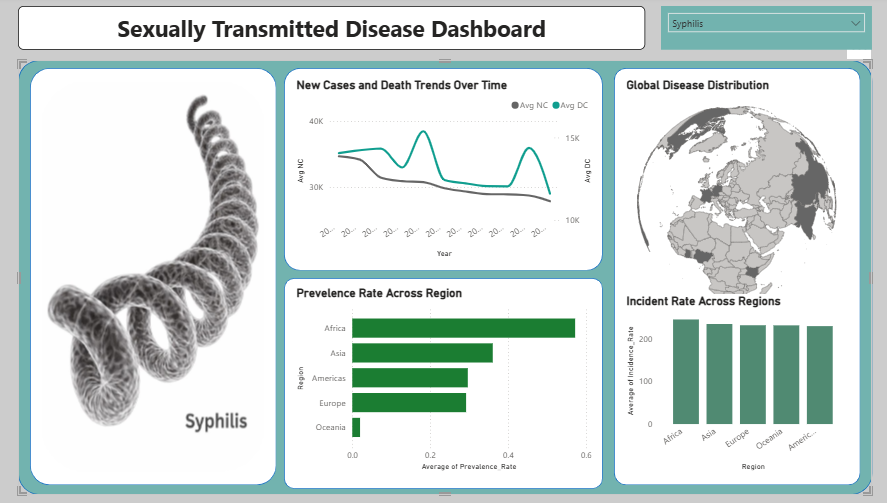

The page's visual inventory and layout, read from the dashboard file:
{"tool":"powerbi","page":{"name":"Page 1","canvas":[1280,720],"ordinal":0},"visuals":[{"type":"shape","box":[33.6,89,1211.1,616.5],"z":0},{"type":"textbox","box":[33.6,13.4,888.6,62.2],"z":1000},{"type":"slicer","fields":{"Values":["Health Image Dataset.Disease"]},"box":[945.7,13.4,299,62.2],"z":2000},{"type":"shape","box":[878.5,100.8,349.4,591.3],"z":3000},{"type":"shape","box":[50.4,100.8,349.4,591.3],"z":4000},{"type":"shape","box":[411.5,100.8,451.9,287.2],"z":5000},{"type":"shape","box":[411.5,398.1,451.9,299],"z":6000},{"type":"imageDB603108E3FF4EBFB8047F5653368E8C","fields":{"imageUrl":["Health Image Dataset.Image URL"]},"box":[62.2,114.2,325.9,562.7],"z":7000},{"type":"lineChart","title":"New Cases and Death Trends Over Time","fields":{"Category":["Health Dataset.Year"],"Y":["Avg(Health Dataset.New_Cases)"],"Y2":["Avg(Health Dataset.Deaths)"]},"box":[423.3,114.2,428.3,258.7],"z":8000},{"type":"clusteredBarChart","title":"Prevelence Rate Across Region","fields":{"Category":["Health Dataset.Region"],"Y":["Avg(Health Dataset.Prevalence_Rate)"]},"box":[423.3,409.9,428.3,267.1],"z":10000},{"type":"shapeMap","title":"Global Disease Distribution","fields":{"Category":["Health Dataset.Country"]},"box":[892,114.2,322.5,337.6],"z":10001},{"type":"clusteredColumnChart","title":"Incident Rate Across Regions","fields":{"Category":["Health Dataset.Region"],"Y":["Avg(Health Dataset.Incidence_Rate)"]},"box":[892,421.6,322.5,255.3],"z":10002}]}

Visuals, with their boxes in screenshot pixels (x1, y1, x2, y2), scaled from the page's 1280x720 canvas onto the 887x503 screenshot:
shape: 23,62,863,493
textbox: 23,9,639,53
slicer - Health Image Dataset.Disease: 655,9,863,53
shape: 609,70,851,484
shape: 35,70,277,484
shape: 285,70,598,271
shape: 285,278,598,487
imageDB603108E3FF4EBFB8047F5653368E8C - Health Image Dataset.Image URL: 43,80,269,473
"New Cases and Death Trends Over Time" lineChart: 293,80,590,261
"Prevelence Rate Across Region" clusteredBarChart: 293,286,590,473
"Global Disease Distribution" shapeMap: 618,80,842,316
"Incident Rate Across Regions" clusteredColumnChart: 618,295,842,473
